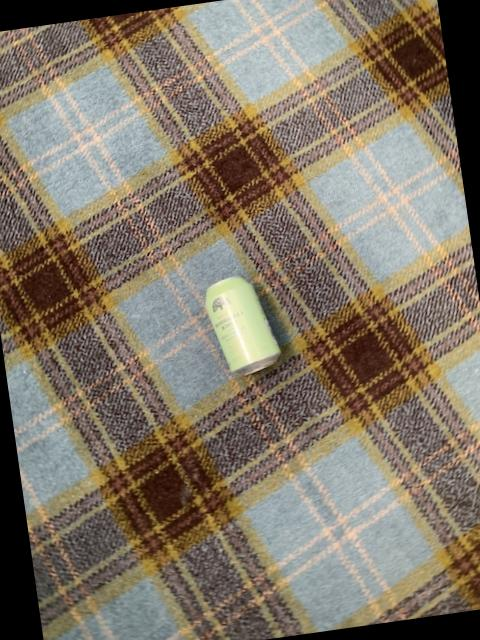metal: (206, 274, 280, 372)
